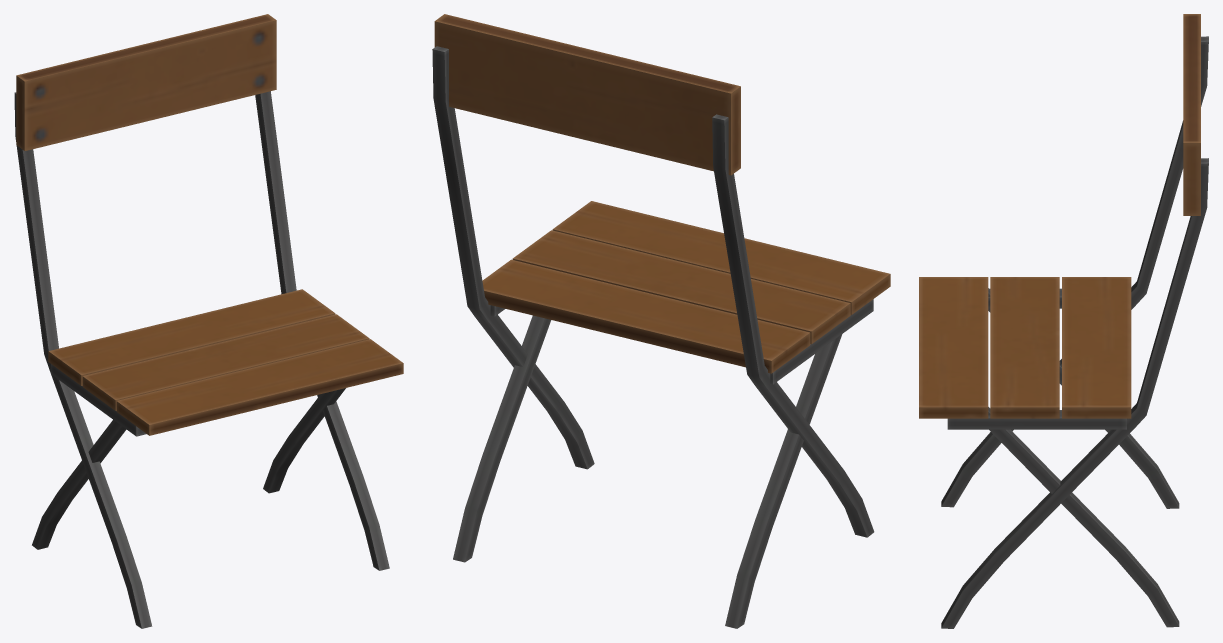
The model's file is SM_Props_Chair_01.glb.
3 renders of one model, left to right at view 1: azimuth 30°, elevation 25°; view 2: azimuth 150°, elevation 25°; view 3: azimuth 270°, elevation 25°, orthographic. The views are drawn at different scales.
Parts seen in each view (by area): view 1: SM_Props_Chair_01; view 2: SM_Props_Chair_01; view 3: SM_Props_Chair_01.
Boxes of the visible parts, x1,y1,x2,y2 form: SM_Props_Chair_01: (14,14,403,628); SM_Props_Chair_01: (432,14,890,628); SM_Props_Chair_01: (919,14,1208,628).
Size of the model in its own units: 0.5256 by 0.917 by 0.4947.
1 material, 1 textured.
